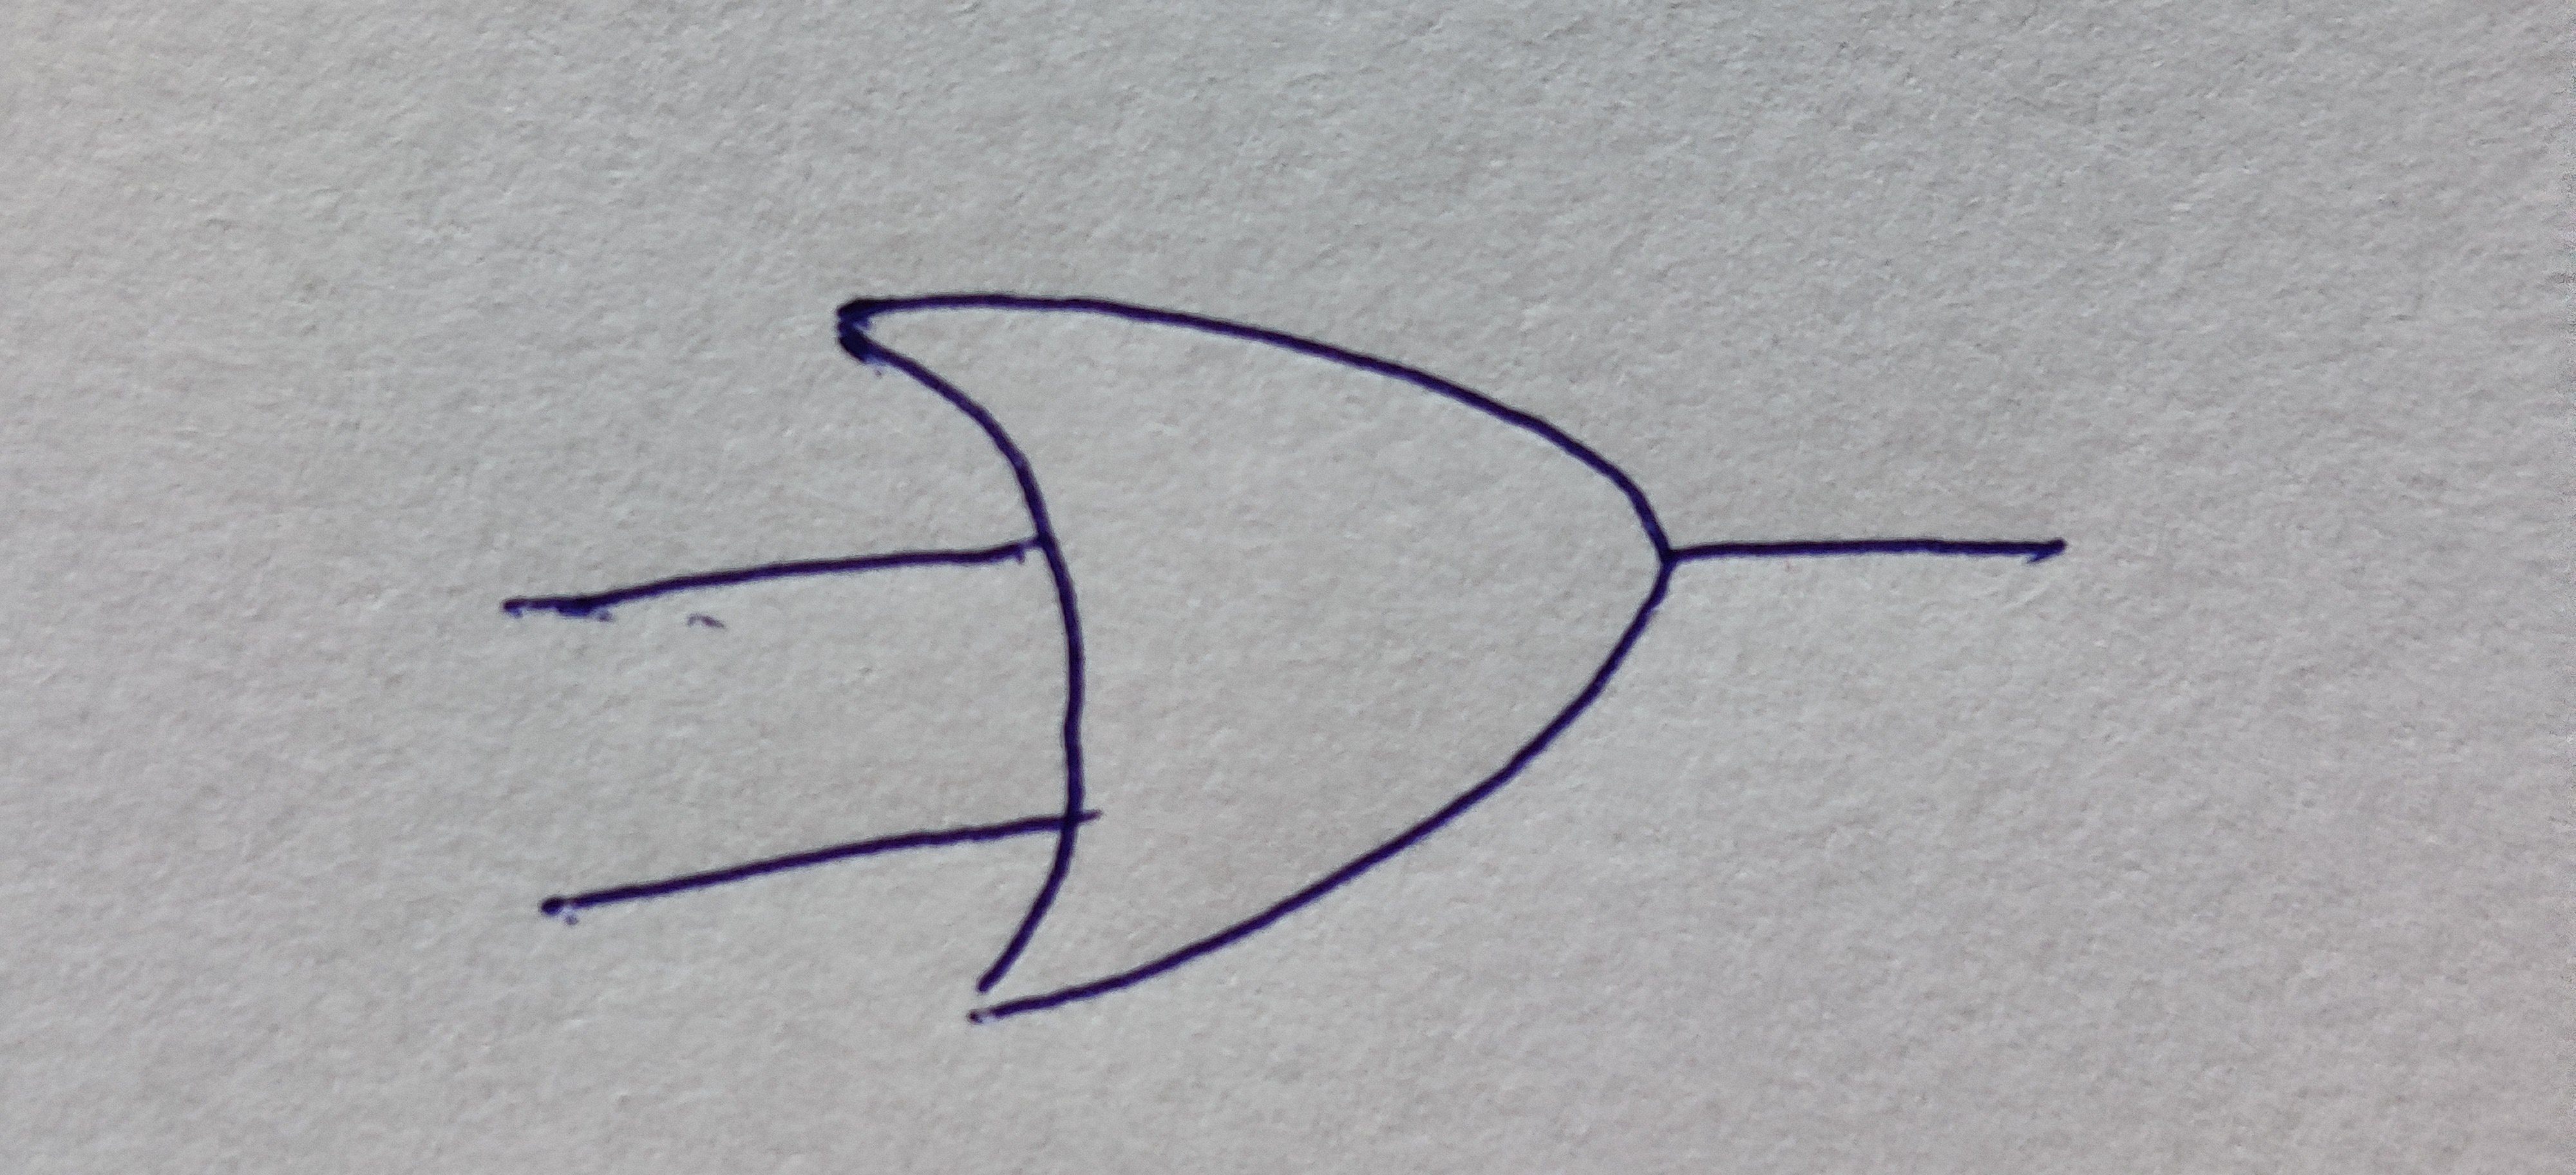or: (841, 296, 1676, 1014)
